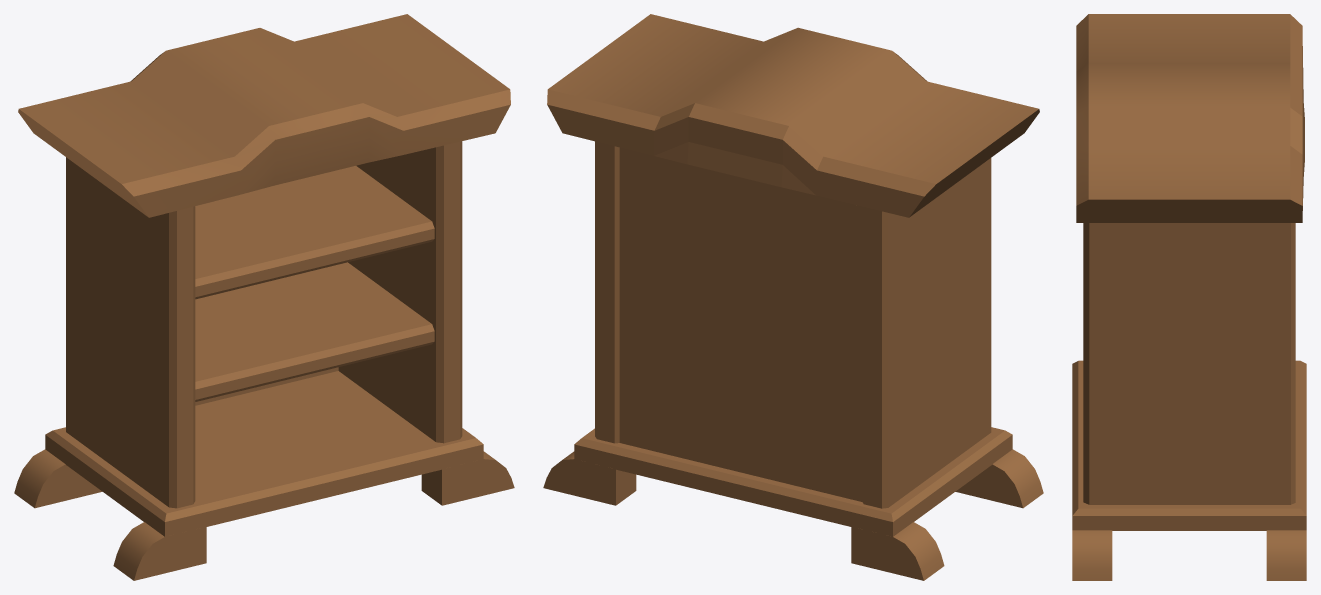
Rendered from ShelfVar1.fbx.
3 renders of one model, left to right at view 1: azimuth 30°, elevation 25°; view 2: azimuth 150°, elevation 25°; view 3: azimuth 270°, elevation 25°, orthographic. The views are drawn at different scales.
Visible parts, largest first — view 1: ShelfVar1; view 2: ShelfVar1; view 3: ShelfVar1.
Boxes of the visible parts, left/top/right/bottom form: ShelfVar1: left=14, top=14, right=514, bottom=580; ShelfVar1: left=543, top=14, right=1043, bottom=580; ShelfVar1: left=1072, top=14, right=1306, bottom=580.
Size of the model in its own units: 156 by 159 by 83.41.
Materials: 1 (1 with a texture image).
